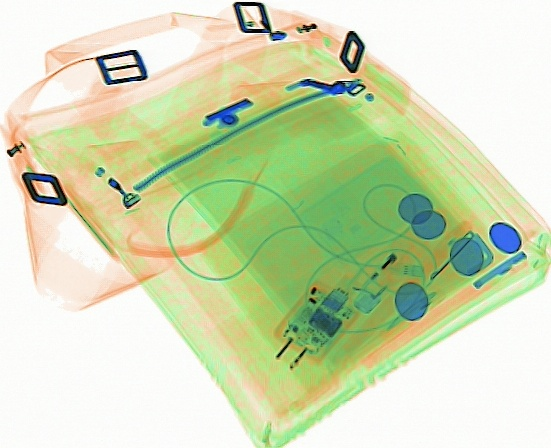lighter: (351, 224, 430, 316)
